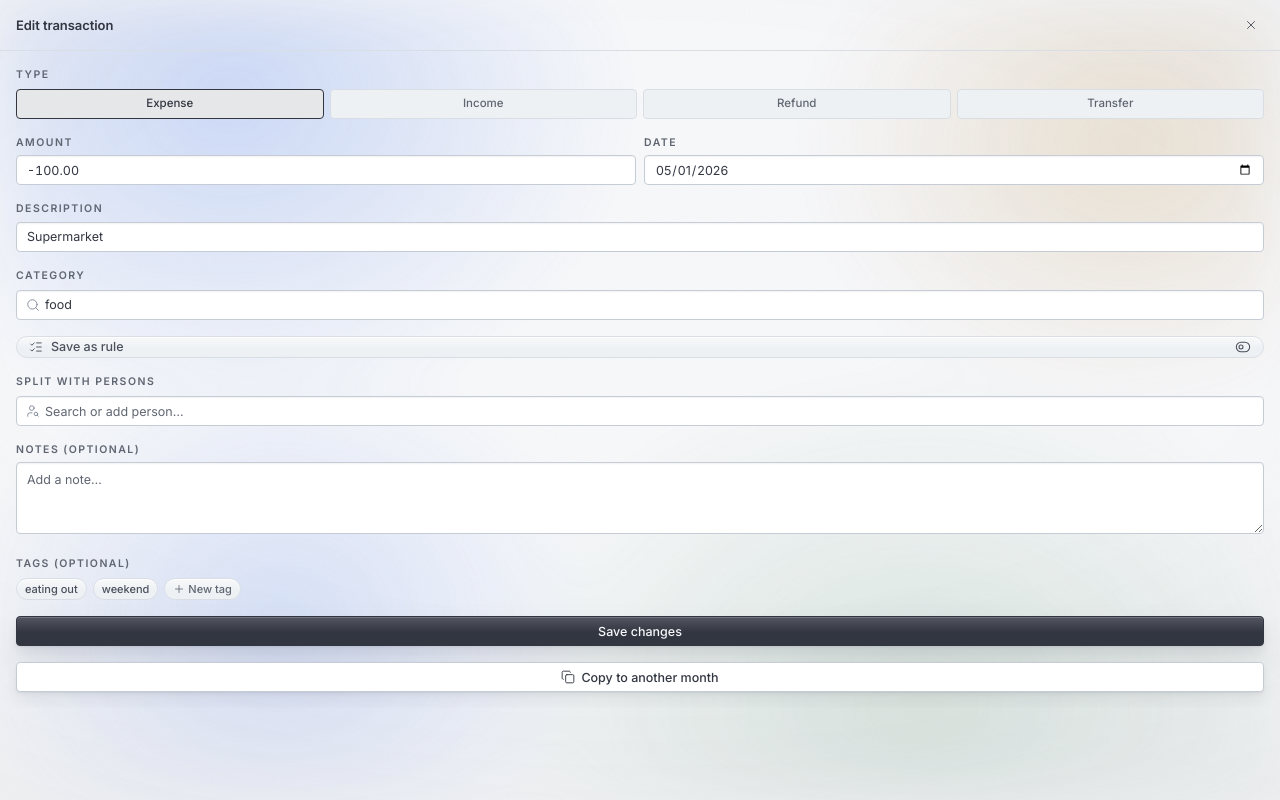
it: EditPanel "Save as rule" › is off by default, so a one-off correction does not rewrite the rule
Type "one-off" into the text box labelled "Notes (optional)" at (640, 498), box x1=16 y1=462 x2=1264 y2=534
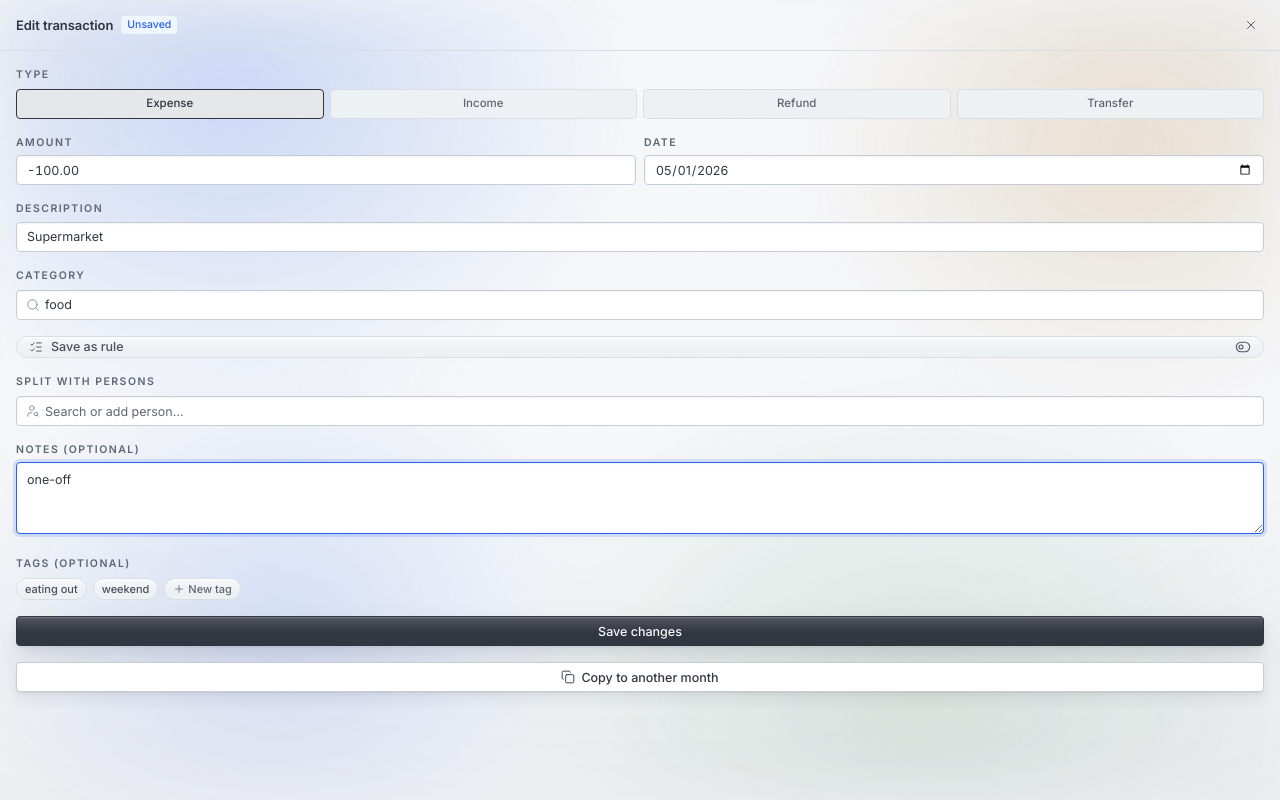
Click the button "Save changes" at (640, 631), box x1=16 y1=616 x2=1264 y2=646
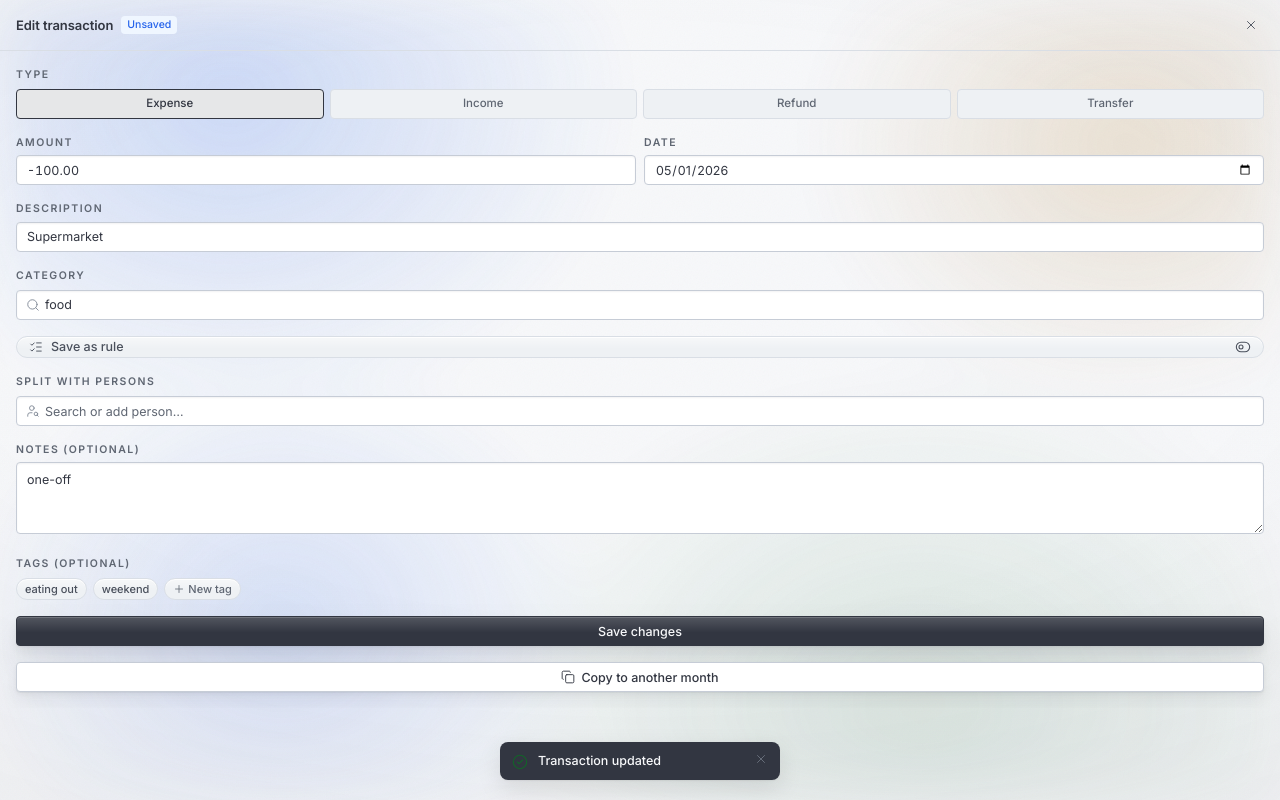
Expected: the text "Transaction updated" is shown, x1=538 y1=753 x2=661 y2=768
